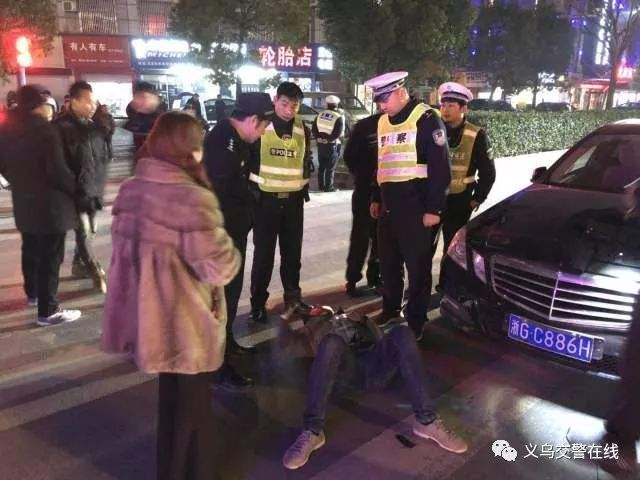10+: (1, 62, 500, 469)
down: (266, 291, 472, 468)
